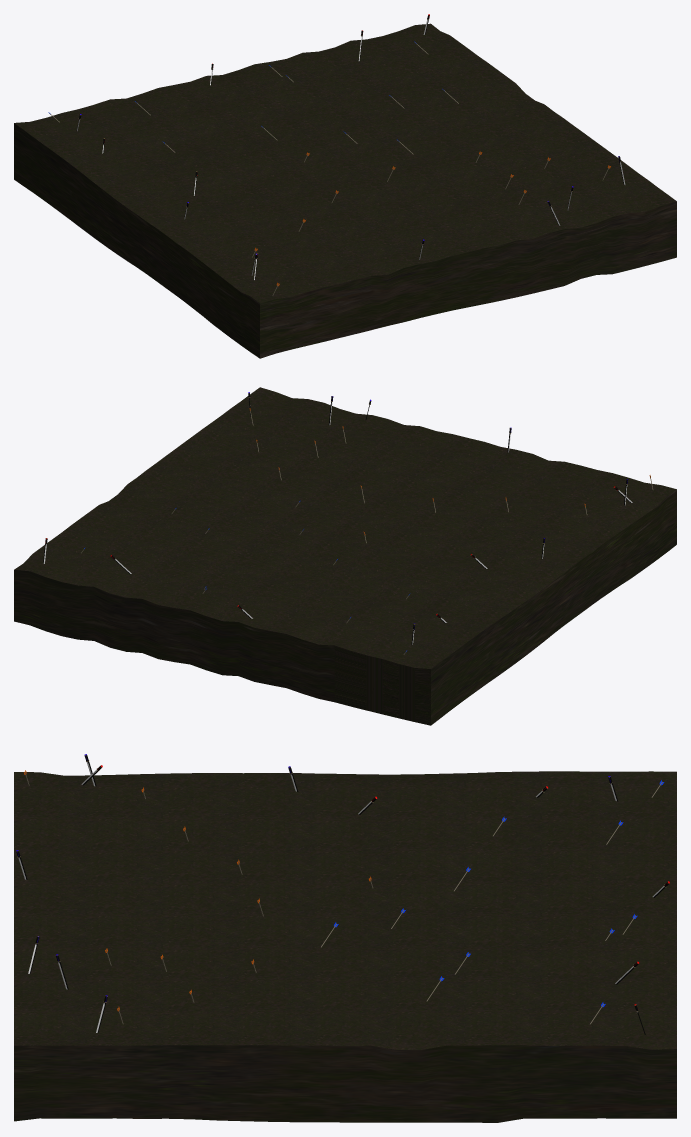
The model's file is battle scene 12.fbx.
The picture shows the model from 3 angles, top to bottom: view 1: azimuth 30°, elevation 25°; view 2: azimuth 150°, elevation 25°; view 3: azimuth 270°, elevation 25°; orthographic projection. The views are drawn at different scales.
Visible parts, largest first — view 1: pCube3; view 2: pCube3; view 3: pCube3.
Boxes of the visible parts, x1,y1,x2,y2 form: pCube3: (14, 14, 676, 358); pCube3: (14, 387, 676, 725); pCube3: (14, 754, 676, 1122).
Size of the model in its own units: 4485 by 854 by 4584.
